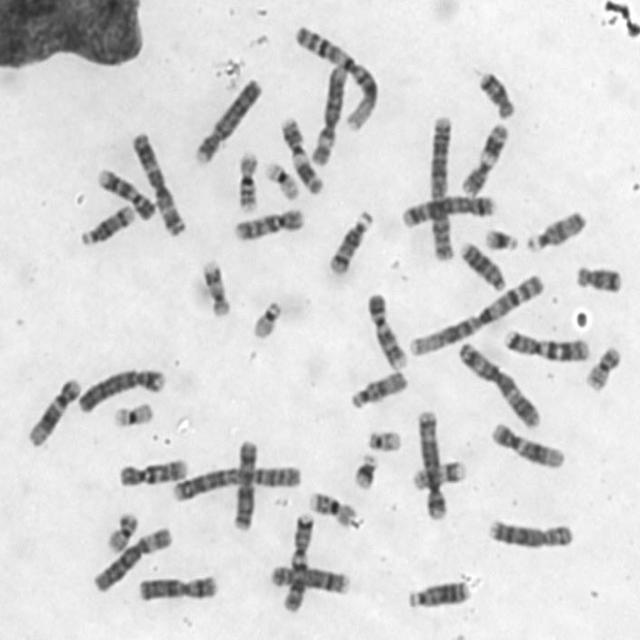A1: (406, 270, 546, 358), (291, 23, 380, 132)
A2: (168, 459, 303, 504), (426, 110, 454, 264)
A3: (454, 338, 541, 429), (128, 127, 187, 238)
B4: (191, 73, 264, 165), (74, 363, 169, 415)
B5: (398, 191, 498, 230), (415, 407, 447, 521)
C10: (228, 206, 305, 243), (115, 454, 189, 488)
C11: (457, 120, 511, 197), (277, 113, 325, 196)
C12: (24, 374, 82, 448), (488, 418, 567, 471)
C6: (89, 522, 175, 594), (306, 61, 349, 168)
C7: (280, 508, 315, 614), (500, 324, 590, 362)
C8: (484, 514, 576, 551), (265, 560, 353, 596)
C9: (365, 290, 409, 371), (95, 164, 156, 221)
D13: (458, 239, 507, 292), (404, 575, 472, 611)
D14: (326, 207, 374, 276), (77, 200, 136, 247)
D15: (523, 206, 587, 254), (346, 366, 409, 411)
E16: (306, 488, 358, 528), (233, 146, 261, 212)
E17: (198, 256, 233, 320), (409, 458, 467, 492)
E18: (476, 67, 516, 122), (571, 261, 623, 295)
F19: (262, 158, 301, 201), (110, 398, 155, 430)
F20: (582, 343, 622, 392), (103, 508, 140, 553)
G21: (349, 450, 380, 492), (482, 224, 521, 253)
G22: (247, 296, 286, 342), (362, 426, 403, 453)
X: (229, 437, 260, 532), (134, 570, 221, 602)
